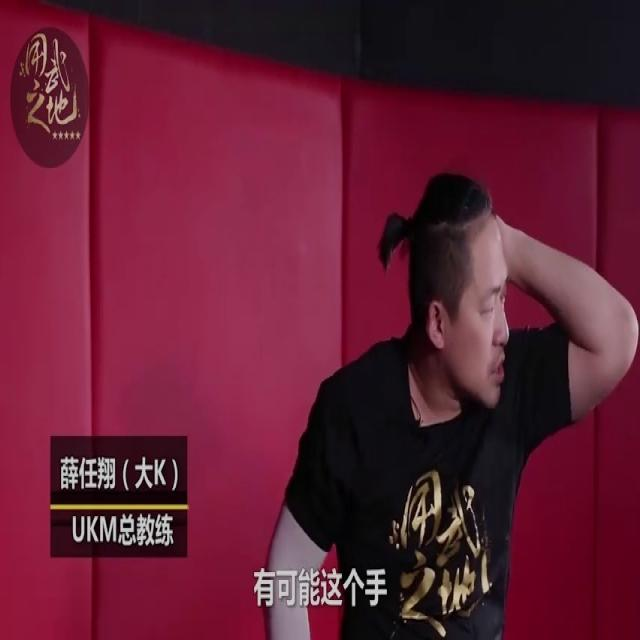non-fight: (261, 167, 640, 640)
